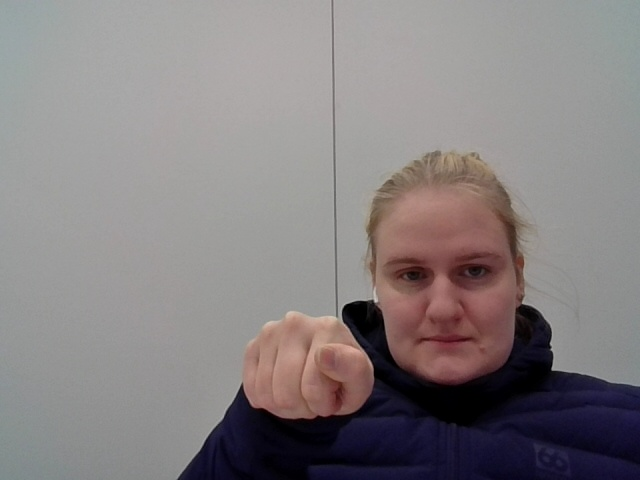down: (195, 302, 391, 421)
